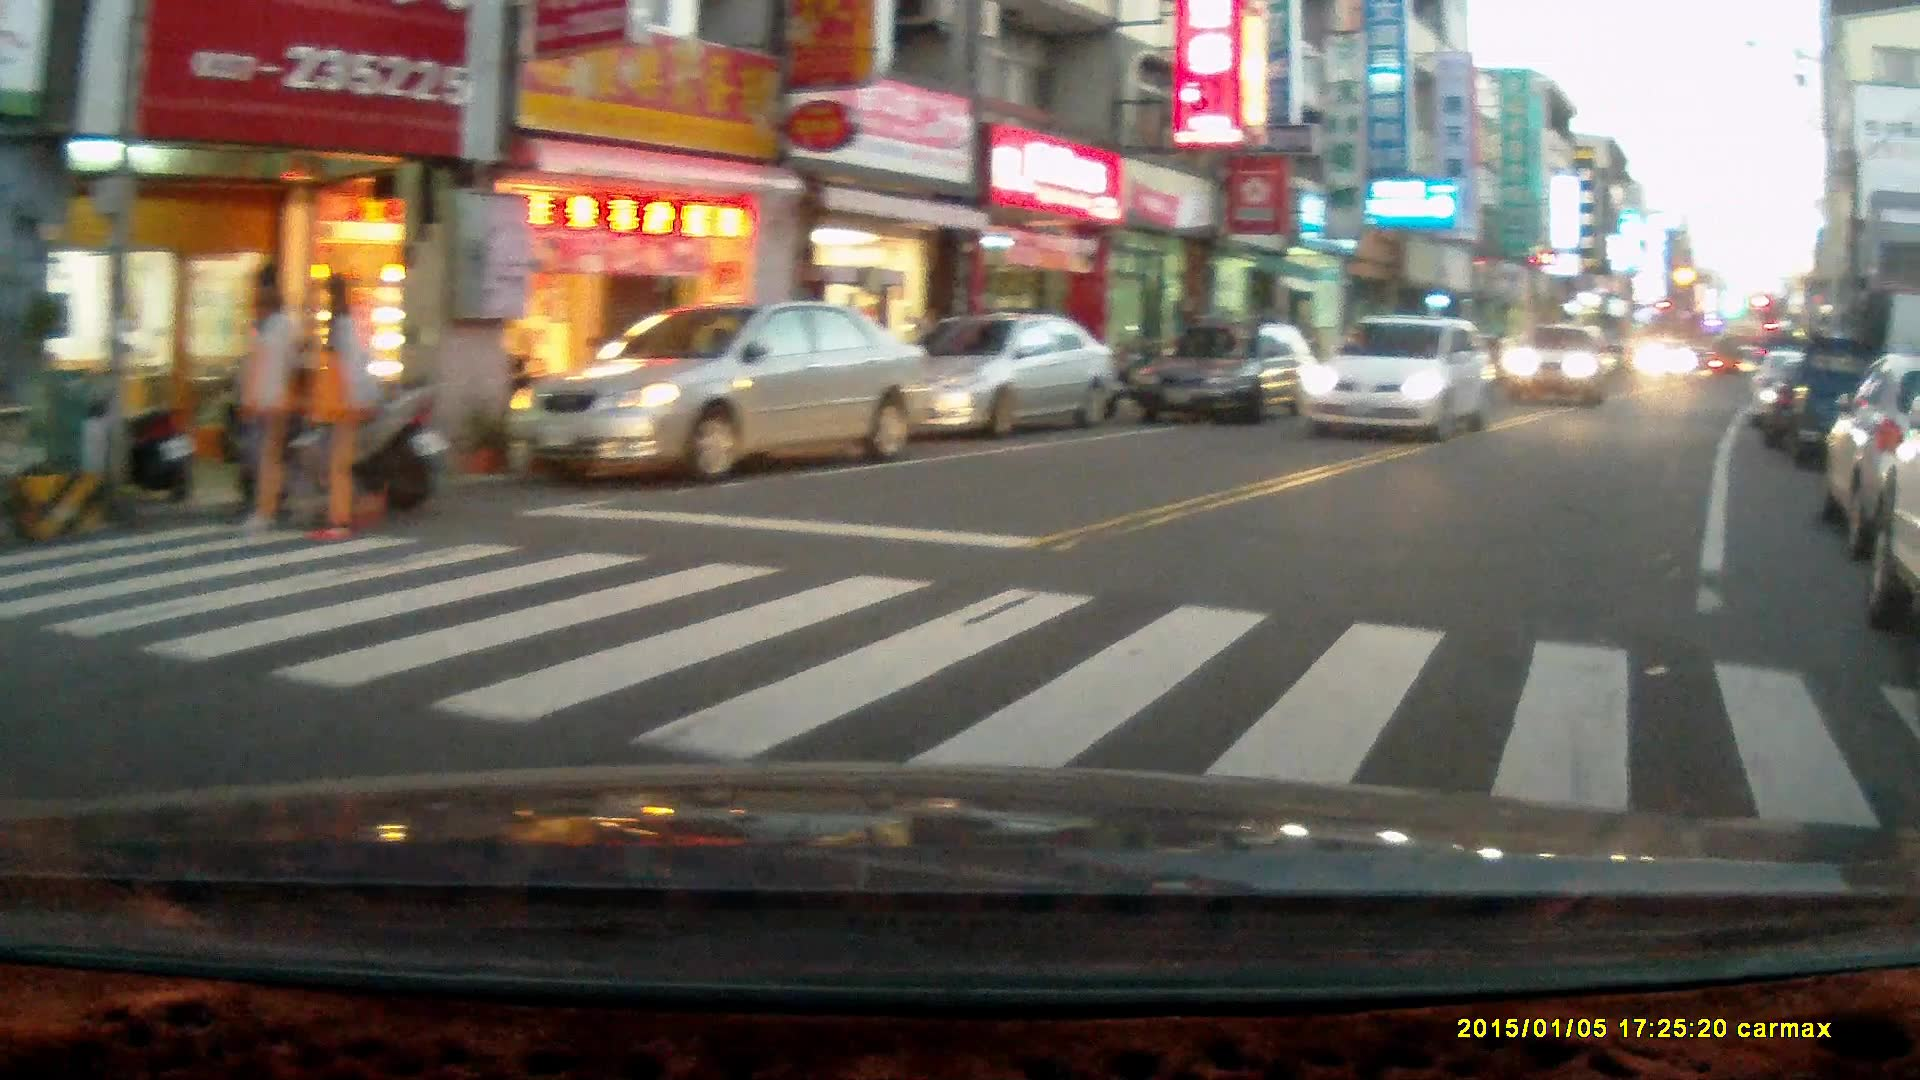pedestrian: (278, 275, 401, 546), (232, 266, 311, 539)
vehicle: (507, 299, 931, 484), (867, 314, 1117, 437), (1300, 312, 1500, 444), (1135, 325, 1327, 432), (1493, 322, 1622, 410), (1635, 337, 1696, 388)
